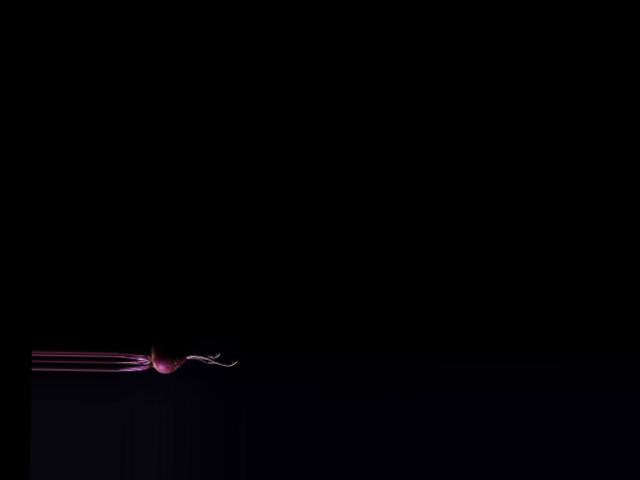beet: (115, 340, 237, 376)
